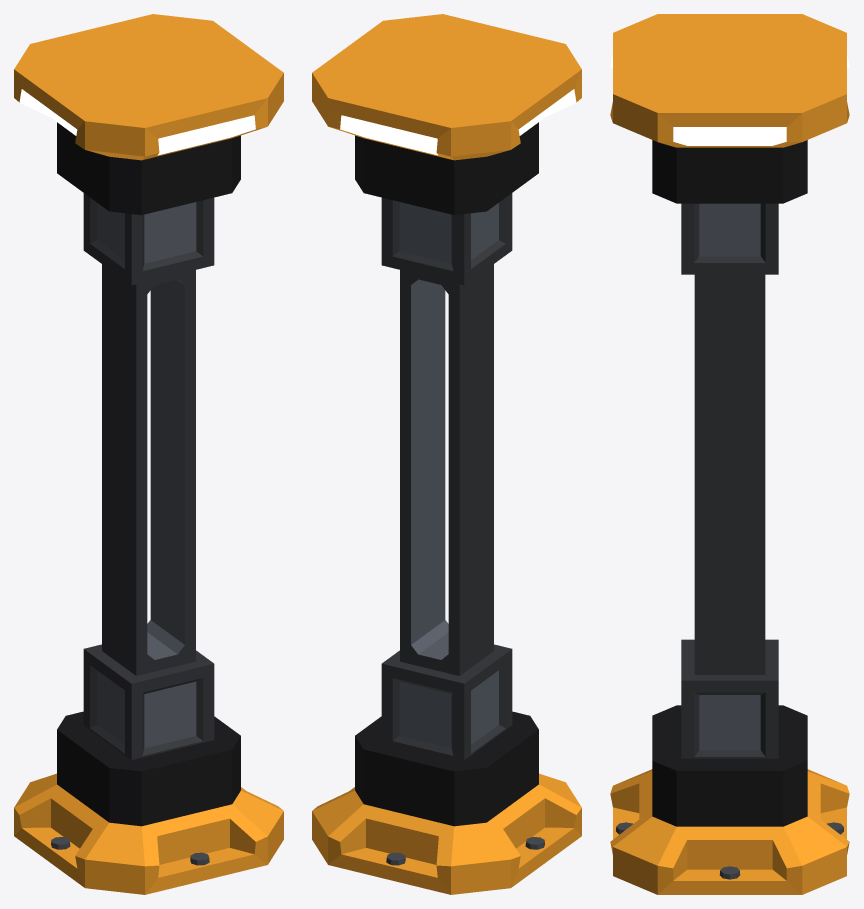
Rendered from SM_Pillar_for_coveyor_splitter.glb.
3 renders of one model, left to right at view 1: azimuth 30°, elevation 25°; view 2: azimuth 150°, elevation 25°; view 3: azimuth 270°, elevation 25°, orthographic.
Visible parts, largest first — view 1: SM_Pillar_for_coveyor_splitter; view 2: SM_Pillar_for_coveyor_splitter; view 3: SM_Pillar_for_coveyor_splitter.
Part boxes in pixels (bbox=[...]): SM_Pillar_for_coveyor_splitter: bbox=[14, 14, 283, 894]; SM_Pillar_for_coveyor_splitter: bbox=[312, 14, 581, 894]; SM_Pillar_for_coveyor_splitter: bbox=[610, 14, 849, 894].
Bounding box in the file's own units: 1.05 × 3.79 × 1.05.
Materials: 2 (1 with a texture image).
